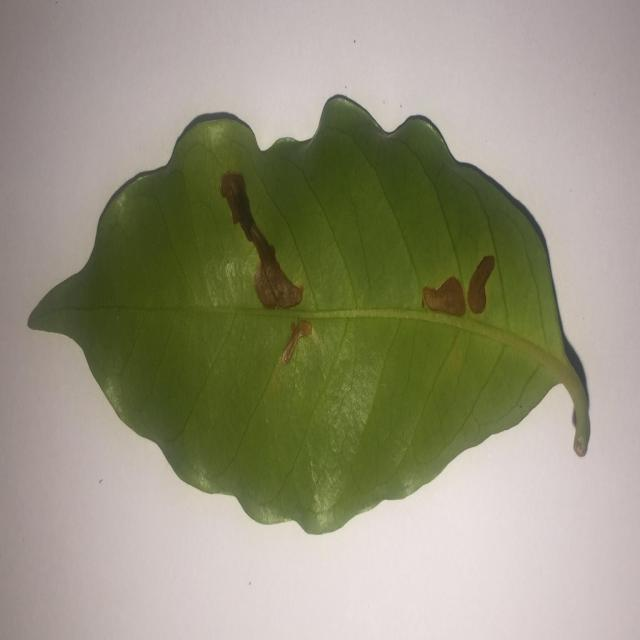Plaga-Minador: (26, 95, 592, 538)
